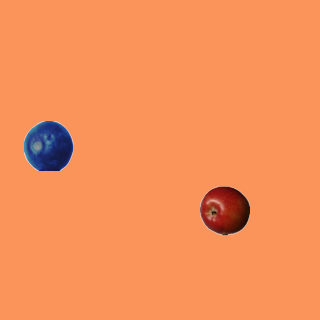Apple Braeburn: (199, 185, 249, 235)
Huckleberry: (23, 120, 73, 170)
